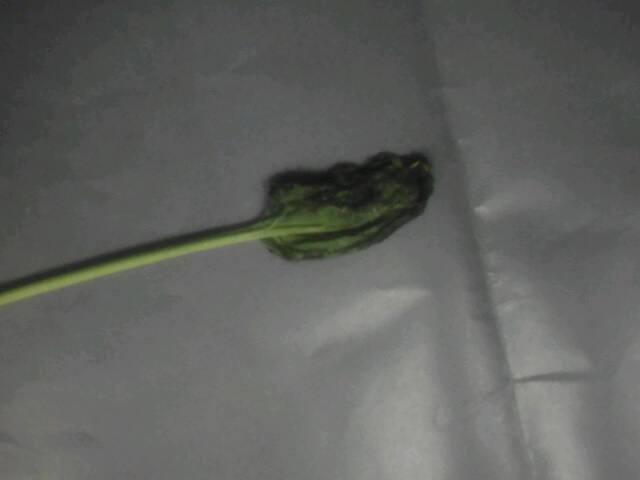yellow: (191, 150, 441, 266)
